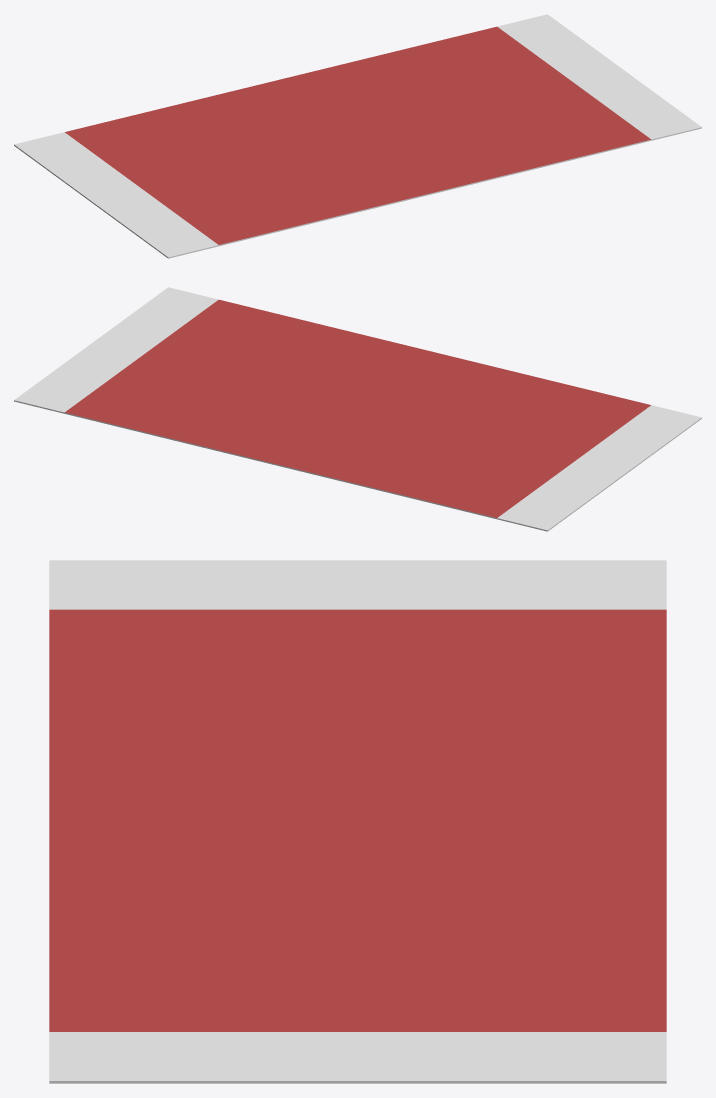
File: Towel2.fbx
The picture shows the model from 3 angles, top to bottom: view 1: azimuth 30°, elevation 25°; view 2: azimuth 150°, elevation 25°; view 3: azimuth 270°, elevation 25°; orthographic projection. The views are drawn at different scales.
Visible parts, largest first — view 1: Towel; view 2: Towel; view 3: Towel.
Boxes of the visible parts, left/top/right/bottom form: Towel: left=14, top=14, right=701, bottom=258; Towel: left=14, top=287, right=701, bottom=531; Towel: left=49, top=560, right=666, bottom=1083.
Size of the model in its own units: 158 by 0.3636 by 79.36.
